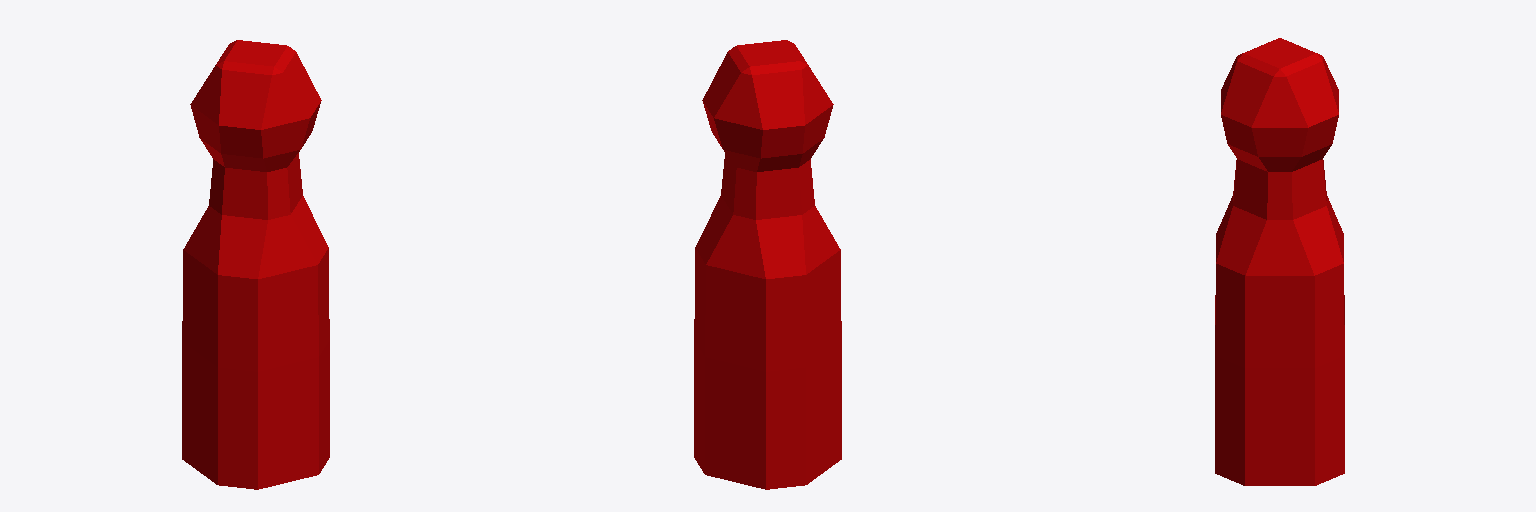
Rendered from RedPiece2.obj.
The picture shows the model from 3 angles: view 1: azimuth 30°, elevation 25°; view 2: azimuth 150°, elevation 25°; view 3: azimuth 270°, elevation 25°; orthographic projection.
Visible parts, largest first — view 1: Cube.001; view 2: Cube.001; view 3: Cube.001.
Part boxes in pixels (x1,y1,x2,y2): Cube.001: (182, 40, 329, 489); Cube.001: (694, 40, 841, 489); Cube.001: (1215, 38, 1344, 485).
Size of the model in its own units: 0.2053 by 0.7094 by 0.2053.